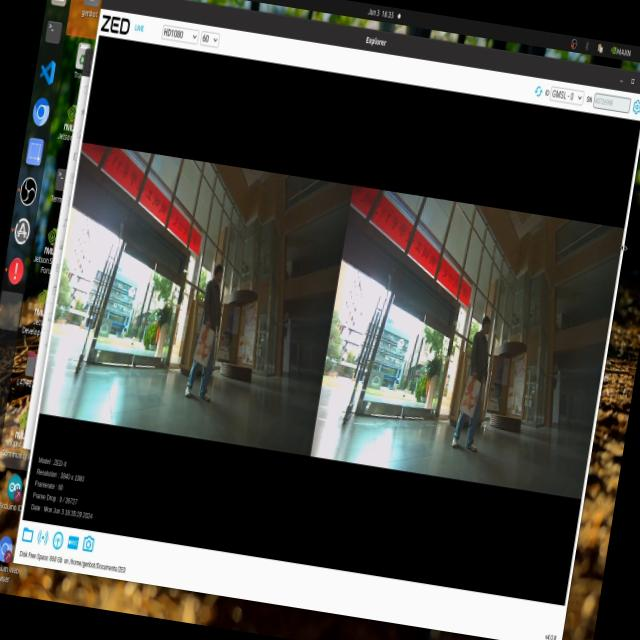red: (180, 328, 218, 372), (455, 381, 489, 426)
